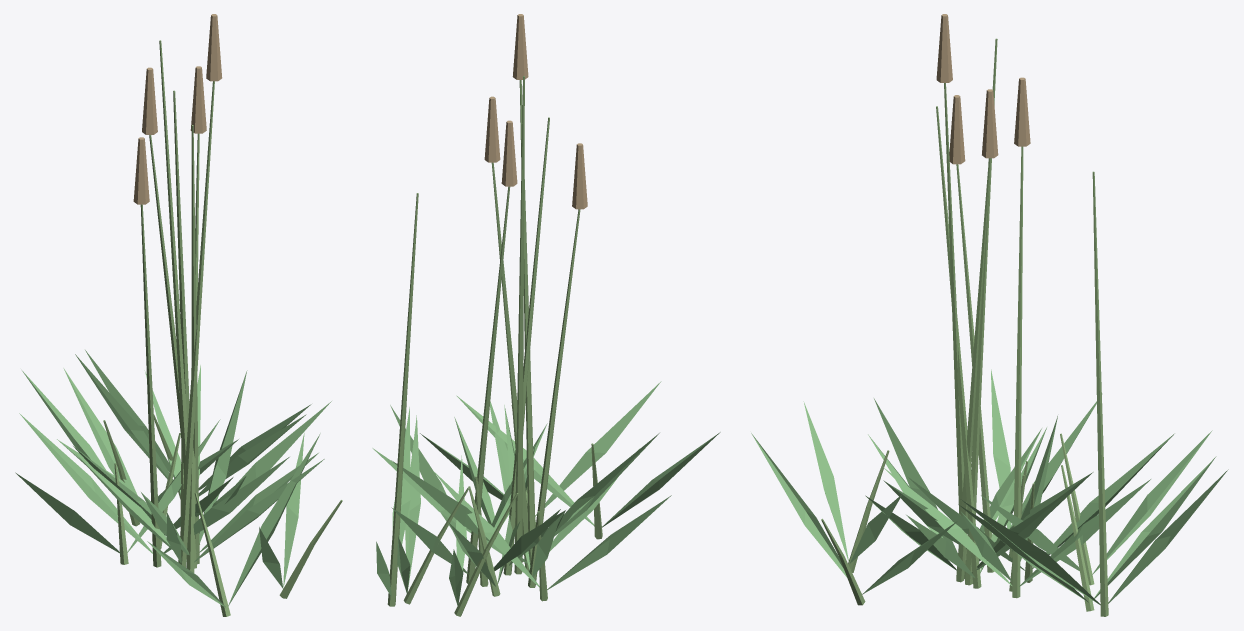
File: plant-reed-a_lod1.glb
3 renders of one model, left to right at view 1: azimuth 30°, elevation 25°; view 2: azimuth 150°, elevation 25°; view 3: azimuth 270°, elevation 25°, orthographic. The views are drawn at different scales.
Visible parts, largest first — view 1: plant-reed-a_full_stemGreen, plant-reed-a_cut_reedLeaf, plant-reed-a_full_reedLeaf, plant-reed-a_full_reedHead, plant-reed-a_cut_stemGreen; view 2: plant-reed-a_full_stemGreen, plant-reed-a_cut_reedLeaf, plant-reed-a_full_reedLeaf, plant-reed-a_cut_stemGreen, plant-reed-a_full_reedHead; view 3: plant-reed-a_full_stemGreen, plant-reed-a_cut_reedLeaf, plant-reed-a_full_reedLeaf, plant-reed-a_full_reedHead, plant-reed-a_cut_stemGreen.
Part boxes in pixels (left/top/right/bottom): plant-reed-a_full_stemGreen: left=140, top=40, right=214, bottom=572; plant-reed-a_cut_reedLeaf: left=15, top=354, right=331, bottom=607; plant-reed-a_full_reedLeaf: left=19, top=350, right=324, bottom=563; plant-reed-a_full_reedHead: left=133, top=14, right=222, bottom=204; plant-reed-a_cut_stemGreen: left=103, top=414, right=342, bottom=616; plant-reed-a_full_stemGreen: left=387, top=76, right=580, bottom=606; plant-reed-a_cut_reedLeaf: left=390, top=381, right=720, bottom=606; plant-reed-a_full_reedLeaf: left=372, top=401, right=659, bottom=596; plant-reed-a_cut_stemGreen: left=403, top=405, right=602, bottom=616; plant-reed-a_full_reedHead: left=484, top=14, right=587, bottom=209; plant-reed-a_full_stemGreen: left=936, top=38, right=1108, bottom=616; plant-reed-a_cut_reedLeaf: left=751, top=369, right=1216, bottom=602; plant-reed-a_full_reedLeaf: left=865, top=393, right=1228, bottom=605; plant-reed-a_full_reedHead: left=936, top=14, right=1030, bottom=164; plant-reed-a_cut_stemGreen: left=821, top=433, right=1094, bottom=611.
Bounding box in the file's own units: 1.31 × 2.3 × 1.74.
